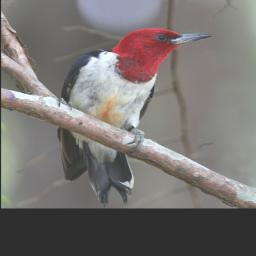Woodpecker: (57, 27, 213, 207)
